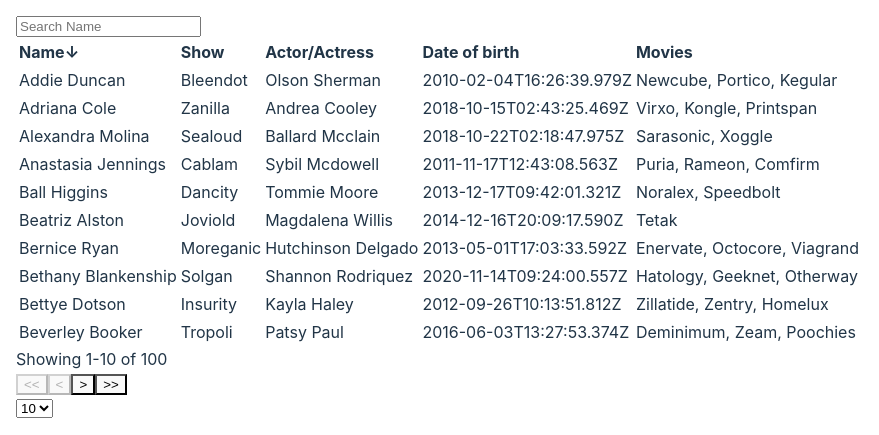
Scenario: People › Pagination › should go the last page, and not the next page
Check: the text "Showing 1-10 of 100" is shown, box [16,349,168,369]
Click the button named "Last".
click(111, 384)  # box [95,374,127,395]
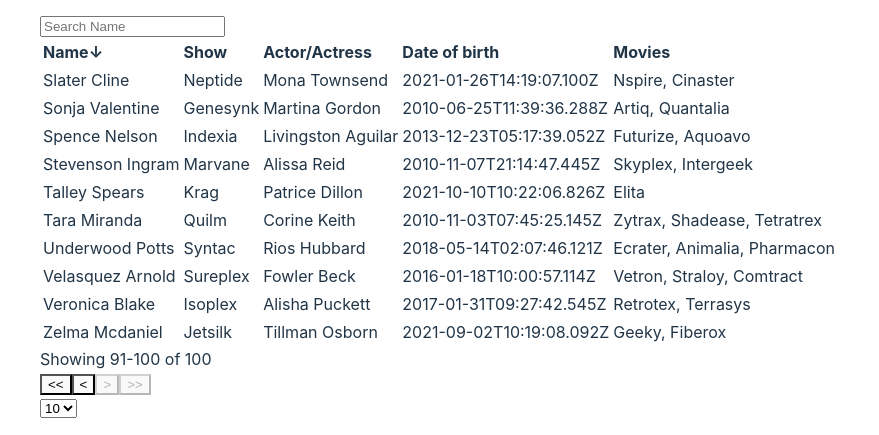
Check: the text "Showing 91-100 of 100" is shown, box [40,349,212,369]
Check: the button named "Next" is disabled, box [95,374,119,395]
Check: the button named "Last" is disabled, box [119,374,151,395]
